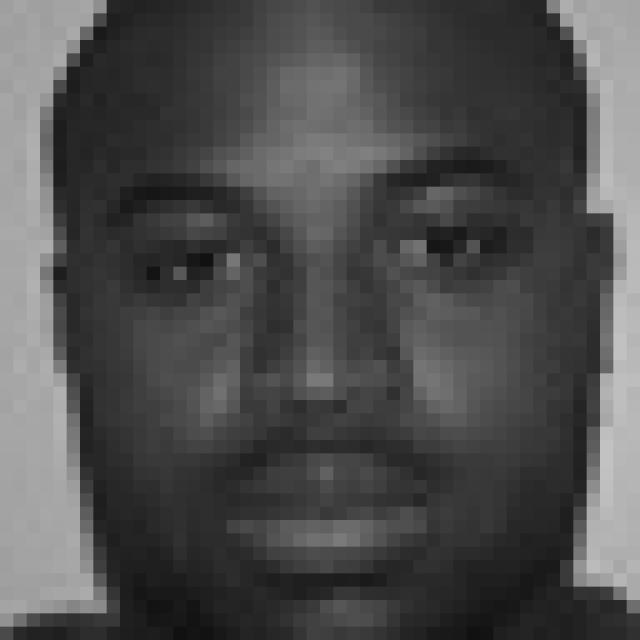neutral: (89, 141, 546, 596)
